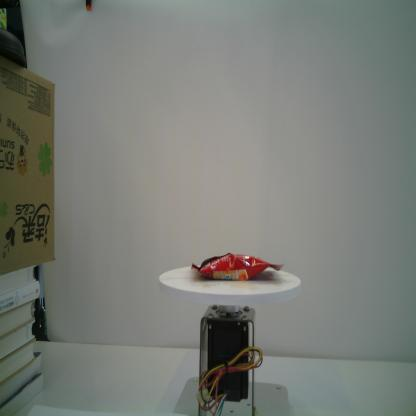Instant Drink: (190, 252, 284, 280)
